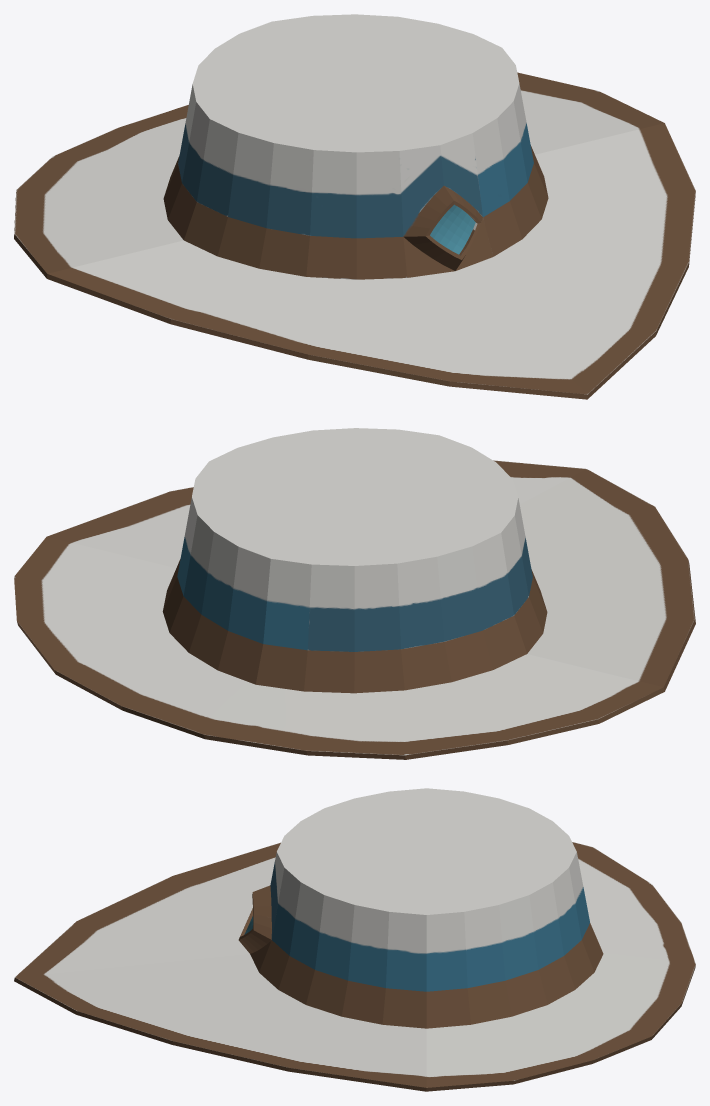
File: cypher-hat.glb
The picture shows the model from 3 angles, top to bottom: view 1: azimuth 30°, elevation 25°; view 2: azimuth 150°, elevation 25°; view 3: azimuth 270°, elevation 25°; orthographic projection. The views are drawn at different scales.
Parts seen in each view (by area): view 1: Plane; view 2: Plane; view 3: Plane.
Part boxes in pixels (<box>): Plane: <box>14,14,695,399</box>; Plane: <box>14,428,695,759</box>; Plane: <box>14,788,695,1091</box>.
Bounding box in the file's own units: 0.605 × 0.1366 × 0.65.
1 material, 1 textured.
